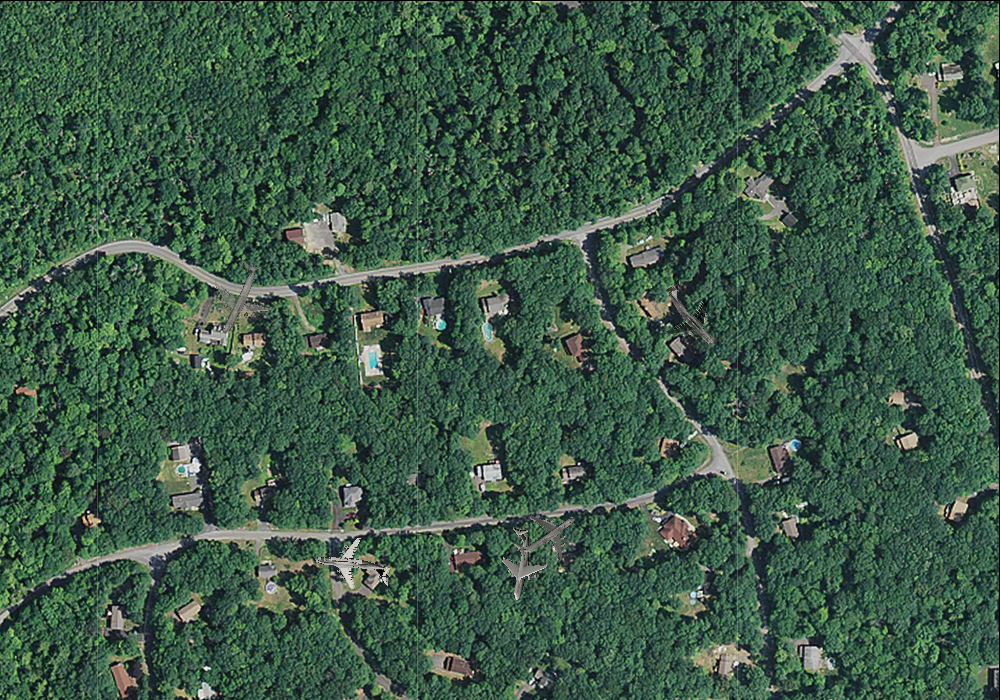plane: (642, 264, 742, 365), (190, 247, 287, 347), (500, 489, 592, 580), (310, 530, 394, 605), (482, 522, 556, 605)
